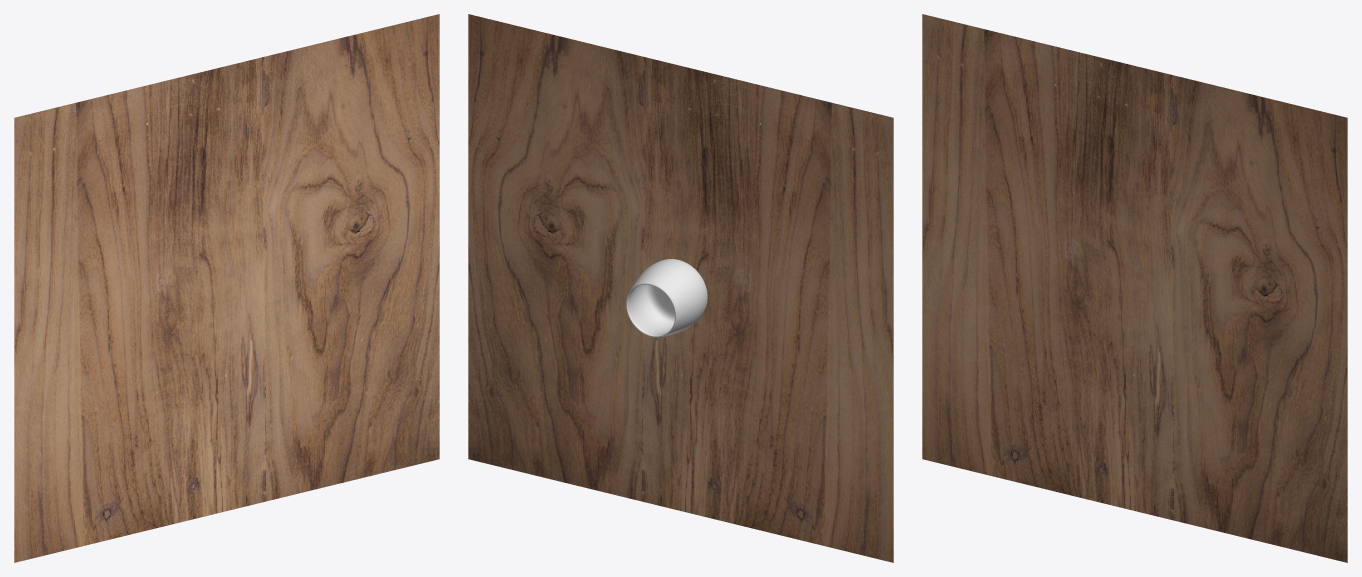
File: glass.dae
3 renders of one model, left to right at view 1: azimuth 30°, elevation 25°; view 2: azimuth 150°, elevation 25°; view 3: azimuth 330°, elevation 25°, orthographic.
Visible parts, largest first — view 1: TablePlane; view 2: TablePlane, Glass; view 3: TablePlane.
Boxes of the visible parts, <box> form: TablePlane: <box>14,14,439,562</box>; TablePlane: <box>468,14,893,562</box>; Glass: <box>626,259,707,337</box>; TablePlane: <box>922,14,1347,562</box>.
Bounding box in the file's own units: 2 × 0.2448 × 2.
